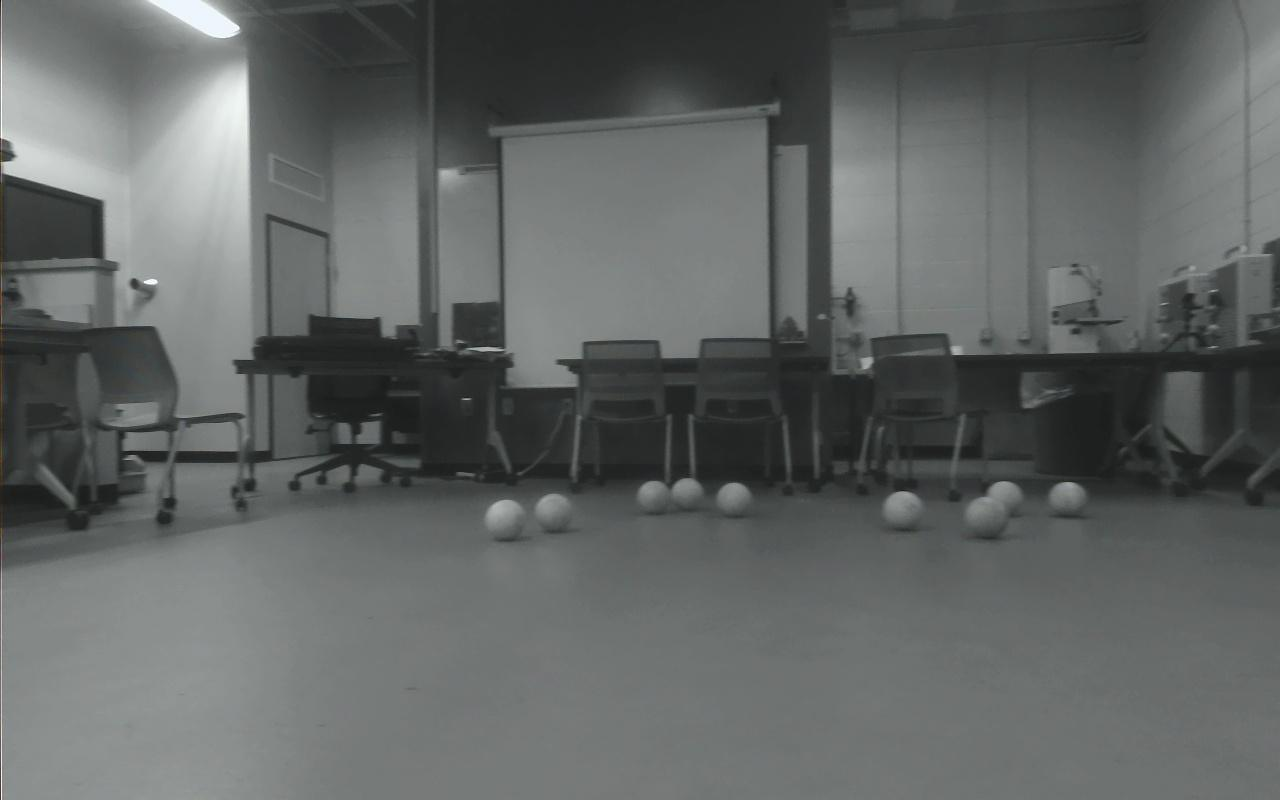Fuel: (965, 496, 1010, 539), (485, 499, 527, 541), (882, 491, 924, 531), (534, 494, 573, 534), (1048, 481, 1088, 518), (986, 481, 1024, 517), (717, 482, 753, 518), (636, 480, 671, 516), (669, 478, 704, 513)
